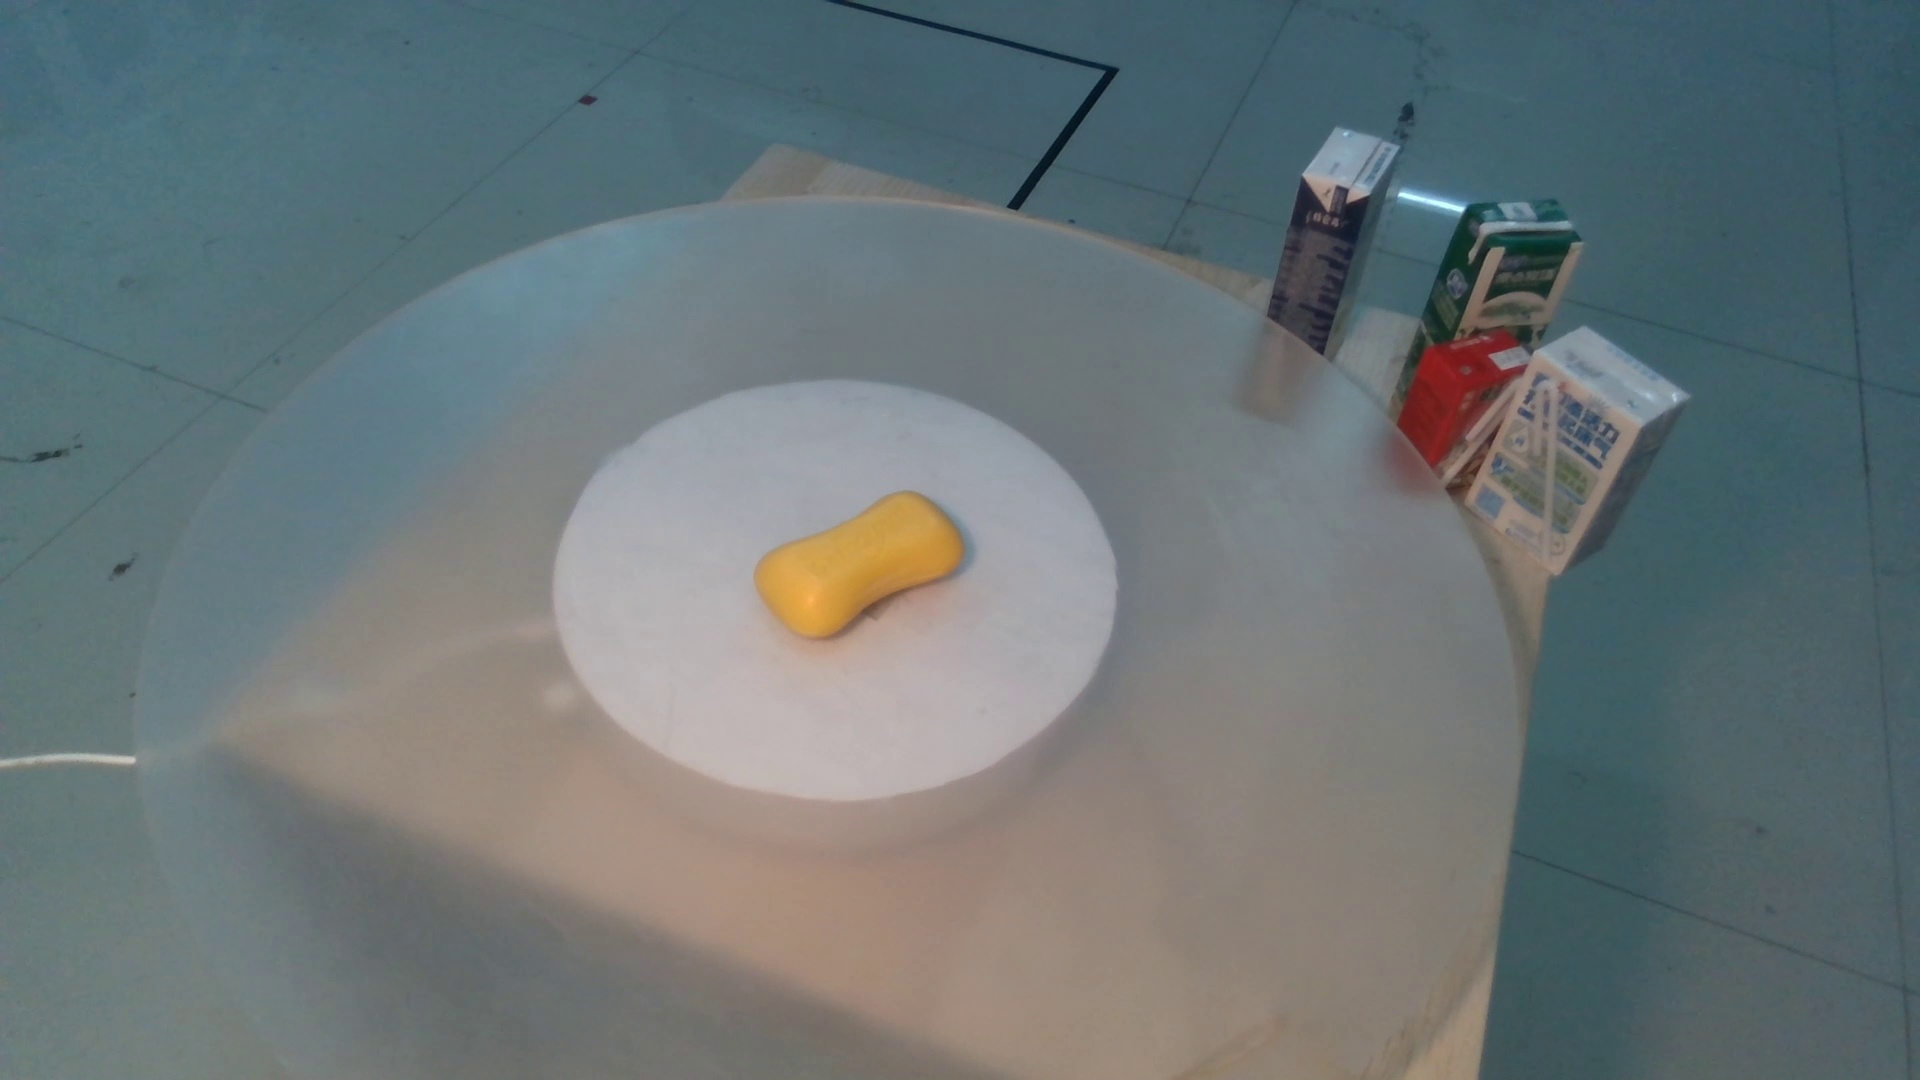CA003_1: (745, 468, 1001, 647)
